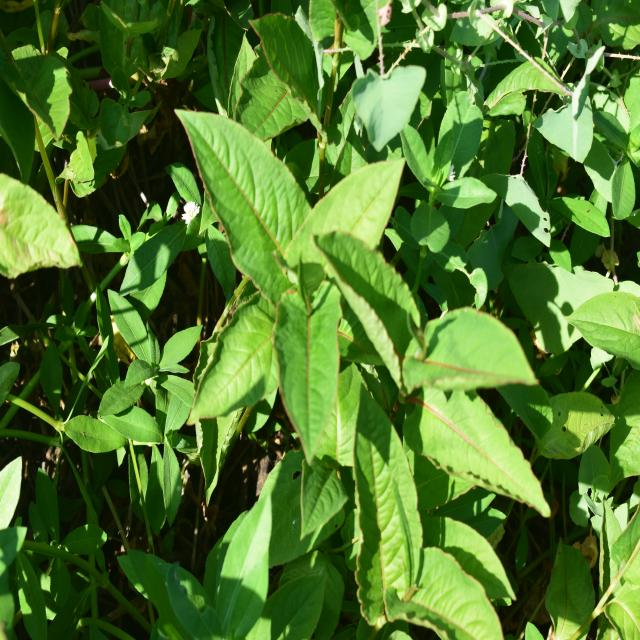Chinese_knotweed: (183, 118, 400, 452)
